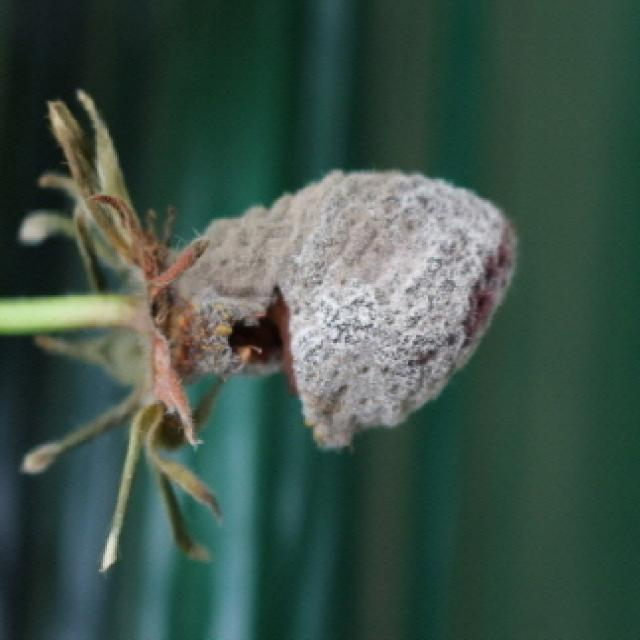Gray Mold: (19, 91, 521, 575)
